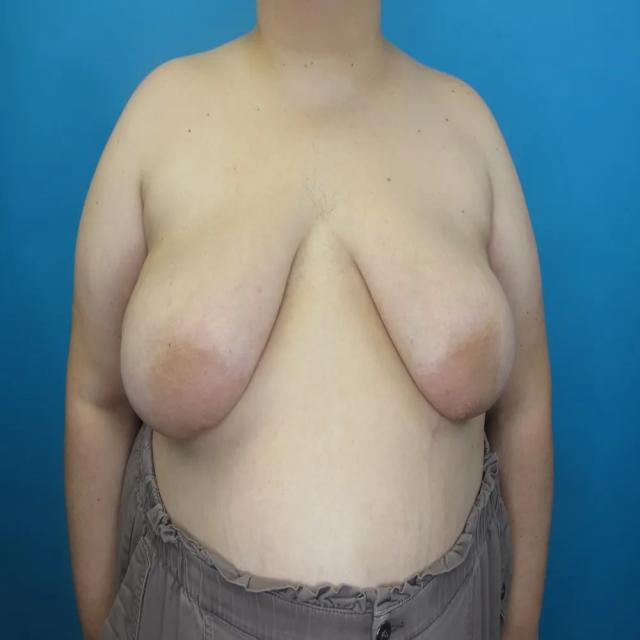Seno ileso: (114, 186, 314, 459), (332, 187, 522, 444)
